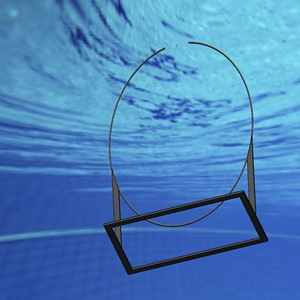circle: (103, 39, 268, 275)
